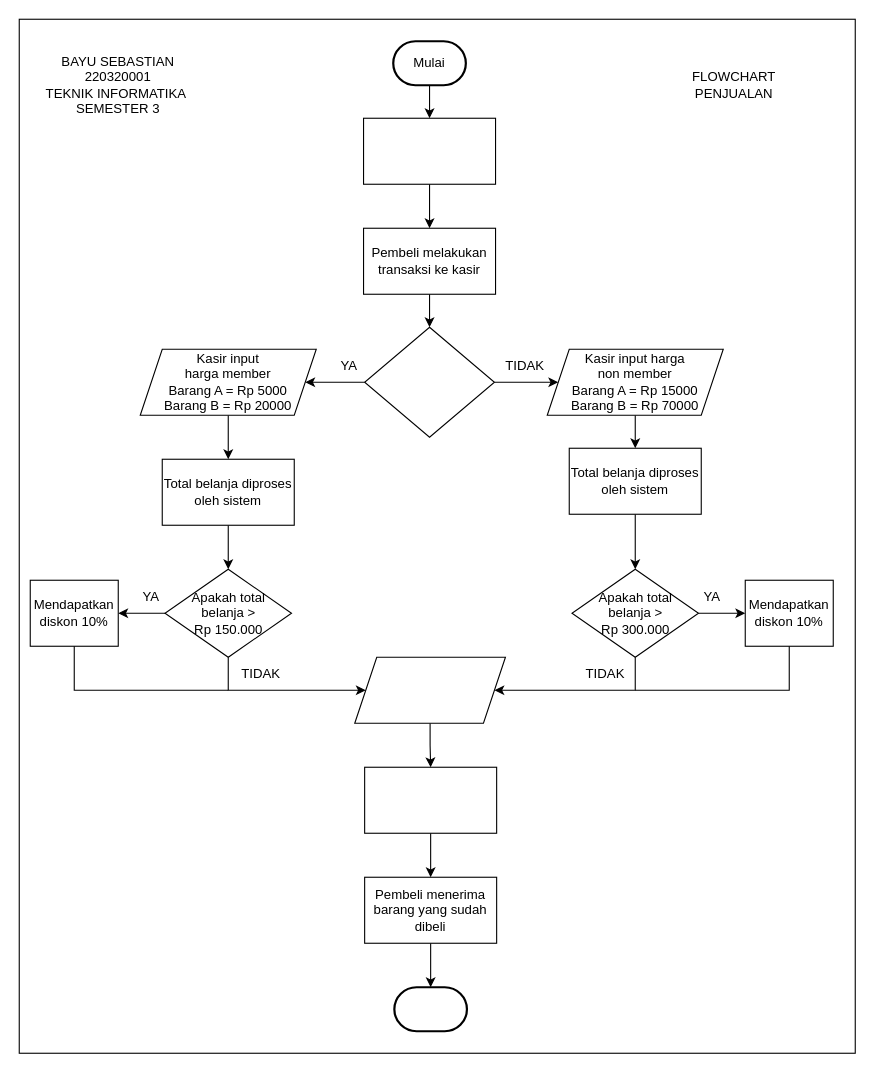
This 875x1073 diagram has some shape labels left out. Each missing label, with the box of its shape:
Apakah pembeli seorang member?: (364, 326, 494, 437)
Pembeli melakukan pembayaran: (364, 766, 497, 833)
Pembeli memilih barang yang akan dibeli: (362, 117, 496, 184)
Selesai: (393, 986, 468, 1032)
Total pembayaran ditampilkan oleh sistem: (354, 656, 505, 723)
